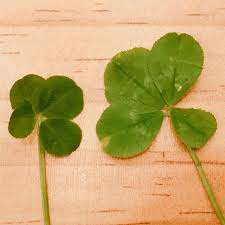4-clover: (98, 32, 215, 161), (7, 73, 88, 157)
